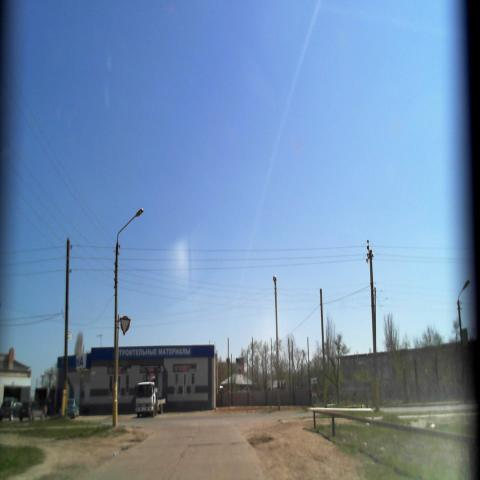2_4: (120, 315, 132, 337)
